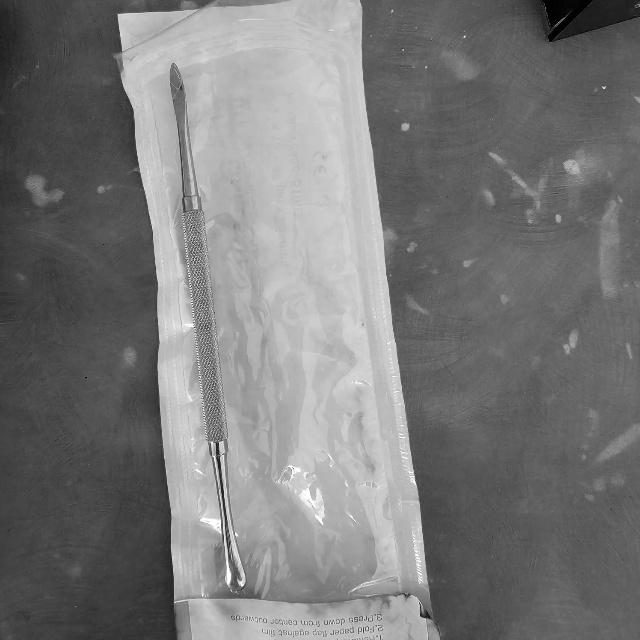elevador: (171, 70, 245, 588)
